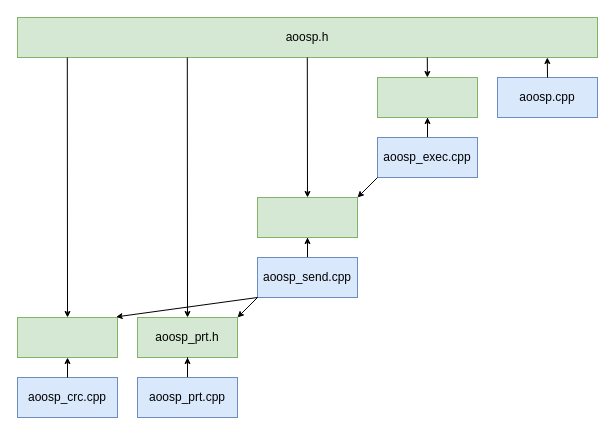
The diagram is 615 pixels wide and 435 high, and some of its shapes have lost their labels. The centre of each missing label's shape, as x and y in pixels:
"aoosp_crc.h" belongs at (67,337).
"aoosp_exec.h" belongs at (427,97).
"aoosp_send.h" belongs at (307,217).
